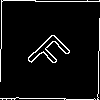F: (24, 24, 78, 79)
